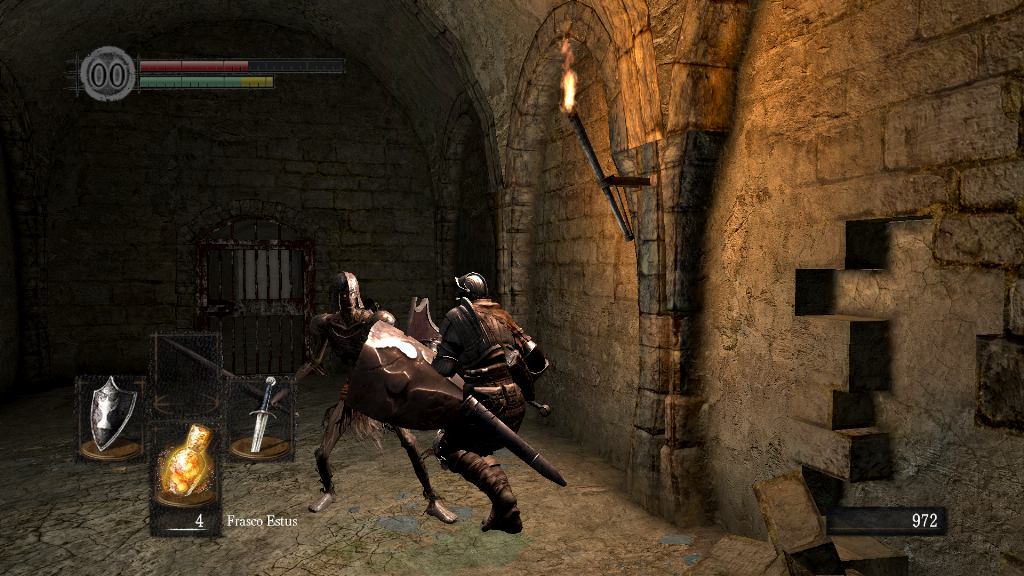health: (138, 58, 343, 71)
humanity: (80, 45, 136, 102)
player: (429, 267, 554, 536)
souls: (825, 506, 945, 536)
stamina: (138, 74, 274, 88)
undeadSoldier: (270, 270, 460, 521)
